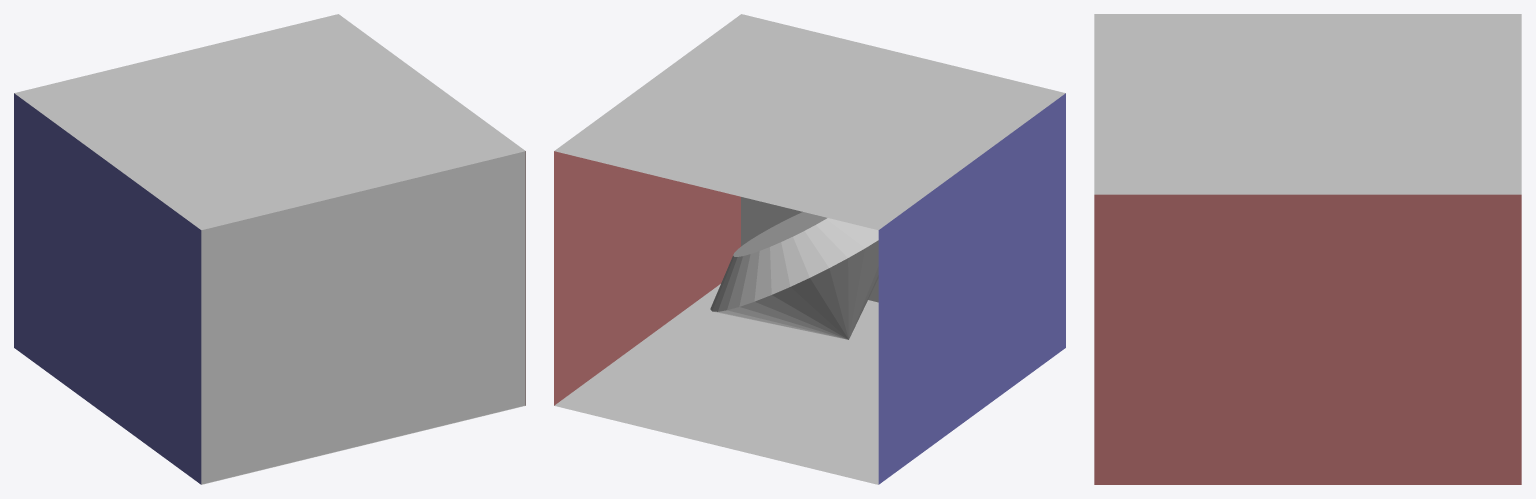
Rendered from CBPrism_diamond.dae.
3 views of the same model, side by side, from view 1: azimuth 30°, elevation 25°; view 2: azimuth 150°, elevation 25°; view 3: azimuth 270°, elevation 25° (orthographic). The views are drawn at different scales.
Parts seen in each view (by area): view 1: backWall, ceiling, rightWall; view 2: ceiling, rightWall, floor, leftWall, Diamond, backWall; view 3: leftWall, ceiling.
Boxes of the visible parts, left/top/right/bottom form: backWall: left=201, top=151, right=525, bottom=484; ceiling: left=14, top=14, right=525, bottom=230; rightWall: left=14, top=93, right=201, bottom=484; ceiling: left=554, top=14, right=1065, bottom=230; rightWall: left=878, top=93, right=1065, bottom=484; floor: left=554, top=284, right=878, bottom=484; leftWall: left=554, top=151, right=740, bottom=405; Diamond: left=710, top=212, right=878, bottom=339; backWall: left=741, top=197, right=878, bottom=302; leftWall: left=1094, top=194, right=1521, bottom=484; ceiling: left=1094, top=14, right=1521, bottom=194.
Bounding box in the file's own units: 2 × 2 × 1.5.
